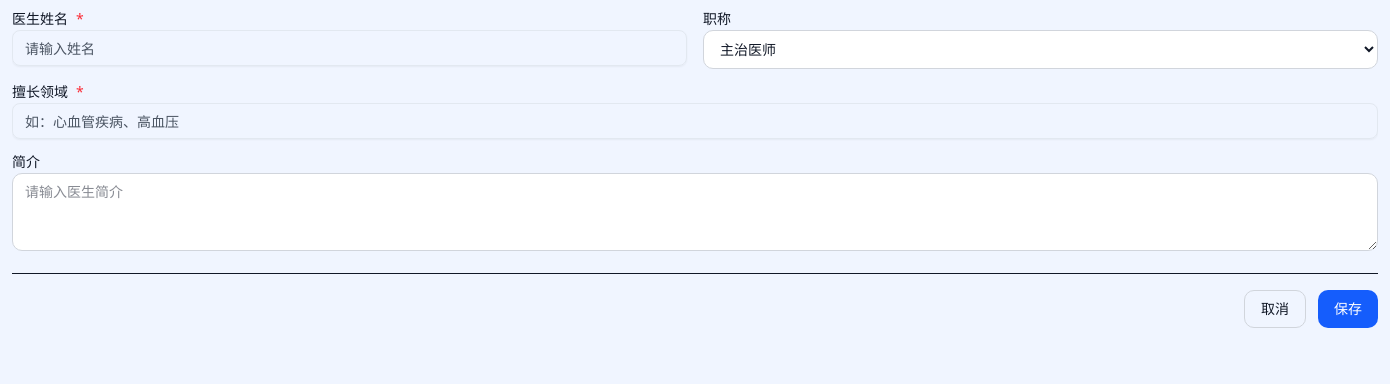
Test: DoctorForm › clears error when user types after validation
Click the button "保存": (1348, 309) [1318,290,1378,328]
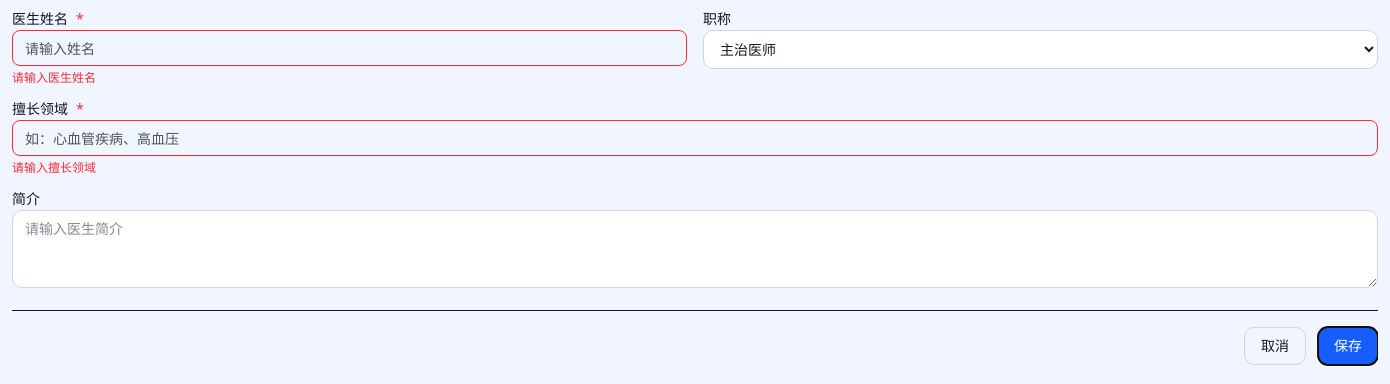
Result: the text "请输入医生姓名" is shown at [12,69,96,86]
In the field with placeholder "请输入姓名": (350, 48) [12,30,687,66], type "张医生"
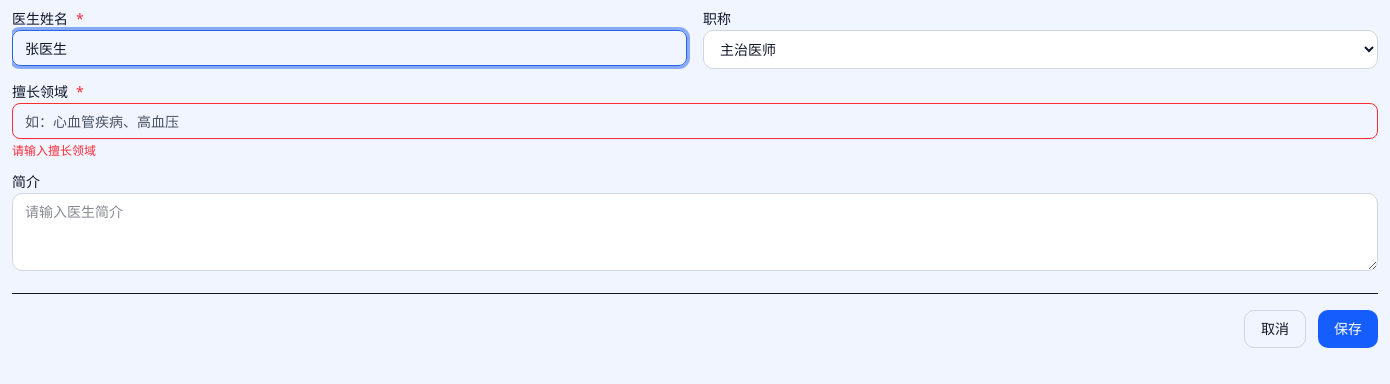
Result: the text "请输入医生姓名" is gone
